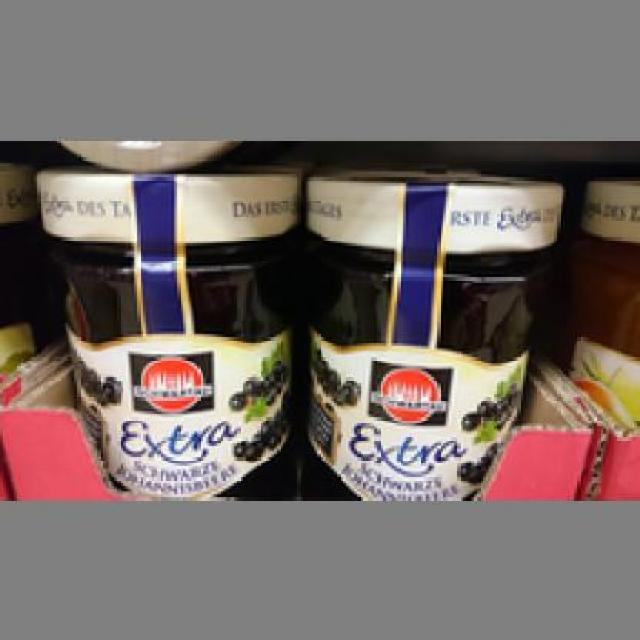Jam: (300, 166, 563, 494), (34, 166, 297, 494)
